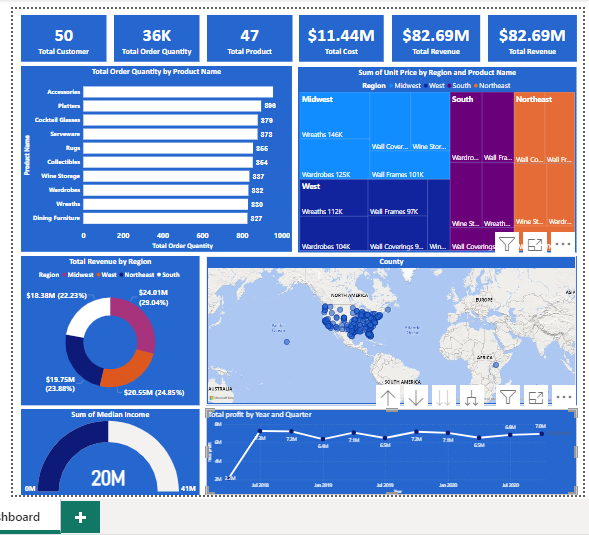

What the dashboard file says about the page in this screenshot:
{"tool":"powerbi","page":{"name":"Dashboard","canvas":[1500,1280],"ordinal":0},"visuals":[{"type":"card","fields":{"Values":["measure table.Total Customer"]},"box":[20.8,17,224.5,122.6],"z":0},{"type":"card","fields":{"Values":["measure table.Total Product"]},"box":[509.4,15.1,224.5,122.6],"z":1000},{"type":"card","fields":{"Values":["measure table.Total Revenue"]},"box":[996.2,15.1,232.1,122.6],"z":2000},{"type":"card","fields":{"Values":["measure table.Total Cost"]},"box":[752.8,15.1,222.6,122.6],"z":3000},{"type":"card","fields":{"Values":["measure table.Total Quantity"]},"box":[266,15.1,224.5,122.6],"z":4000},{"type":"barChart","fields":{"Category":["Products Sheet.Product Name"],"Y":["measure table.Total Order Quantity"]},"box":[20.8,150.9,713.2,488.7],"z":5000},{"type":"card","fields":{"Values":["measure table.Total Revenue"]},"box":[1249.1,15.1,234,122.6],"z":6000},{"type":"treemap","fields":{"Group":["Sales Team Sheet.Region"],"Details":["Products Sheet.Product Name"],"Values":["Sum(Sales.Unit Price)"]},"box":[750,151.7,733.3,488.3],"z":7000},{"type":"donutChart","fields":{"Y":["measure table.Total Revenue"],"Category":["Sales Team Sheet.Region"]},"box":[21.7,650,470,393.3],"z":8000},{"type":"map","fields":{"Category":["store team sheet.County"]},"box":[507.1,650,975.7,392.9],"z":9000},{"type":"gauge","fields":{"Y":["Sum(store team sheet.Median Income)"]},"box":[21.4,1052.9,470,227.1],"z":10000},{"type":"lineChart","fields":{"Y":["measure table.Total profit"],"Category":["Sales.OrderDate.Variation.Date Hierarchy.Year","Sales.OrderDate.Variation.Date Hierarchy.Quarter","Sales.OrderDate.Variation.Date Hierarchy.Month","Sales.OrderDate.Variation.Date Hierarchy.Day"]},"box":[507,1053,976,227],"z":11000}]}

Visuals, with their boxes in screenshot pixels (x1, y1, x2, y2):
card - measure table.Total Customer: {"x1": 17, "y1": 8, "x2": 104, "y2": 56}
card - measure table.Total Product: {"x1": 206, "y1": 7, "x2": 293, "y2": 55}
card - measure table.Total Revenue: {"x1": 395, "y1": 7, "x2": 485, "y2": 55}
card - measure table.Total Cost: {"x1": 301, "y1": 7, "x2": 387, "y2": 55}
card - measure table.Total Quantity: {"x1": 112, "y1": 7, "x2": 199, "y2": 55}
barChart - Products Sheet.Product Name x measure table.Total Order Quantity: {"x1": 17, "y1": 60, "x2": 293, "y2": 249}
card - measure table.Total Revenue: {"x1": 493, "y1": 7, "x2": 584, "y2": 55}
treemap - Sales Team Sheet.Region x Products Sheet.Product Name: {"x1": 300, "y1": 60, "x2": 584, "y2": 249}
donutChart - measure table.Total Revenue x Sales Team Sheet.Region: {"x1": 18, "y1": 253, "x2": 200, "y2": 406}
map - store team sheet.County: {"x1": 206, "y1": 253, "x2": 583, "y2": 405}
gauge - Sum(store team sheet.Median Income): {"x1": 17, "y1": 409, "x2": 199, "y2": 497}
lineChart - measure table.Total profit x Sales.OrderDate.Variation.Date Hierarchy.Year: {"x1": 206, "y1": 409, "x2": 583, "y2": 497}
